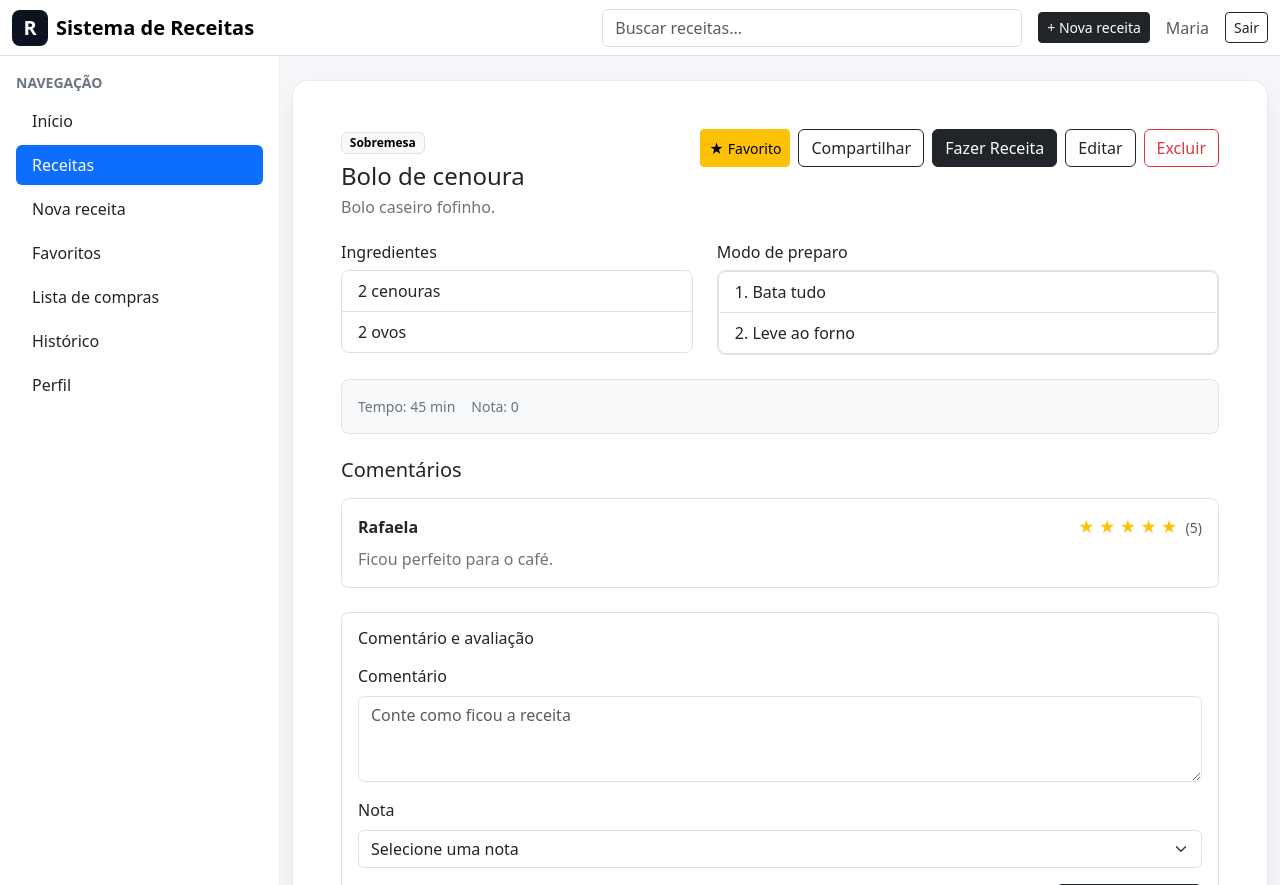
Test: recipe details › adds missing ingredients to the shopping list
Expected: the heading "Bolo de cenoura" is shown, [341, 162, 525, 191]
Click the button "Fazer Receita".
click(995, 148)  # box [932, 129, 1057, 167]
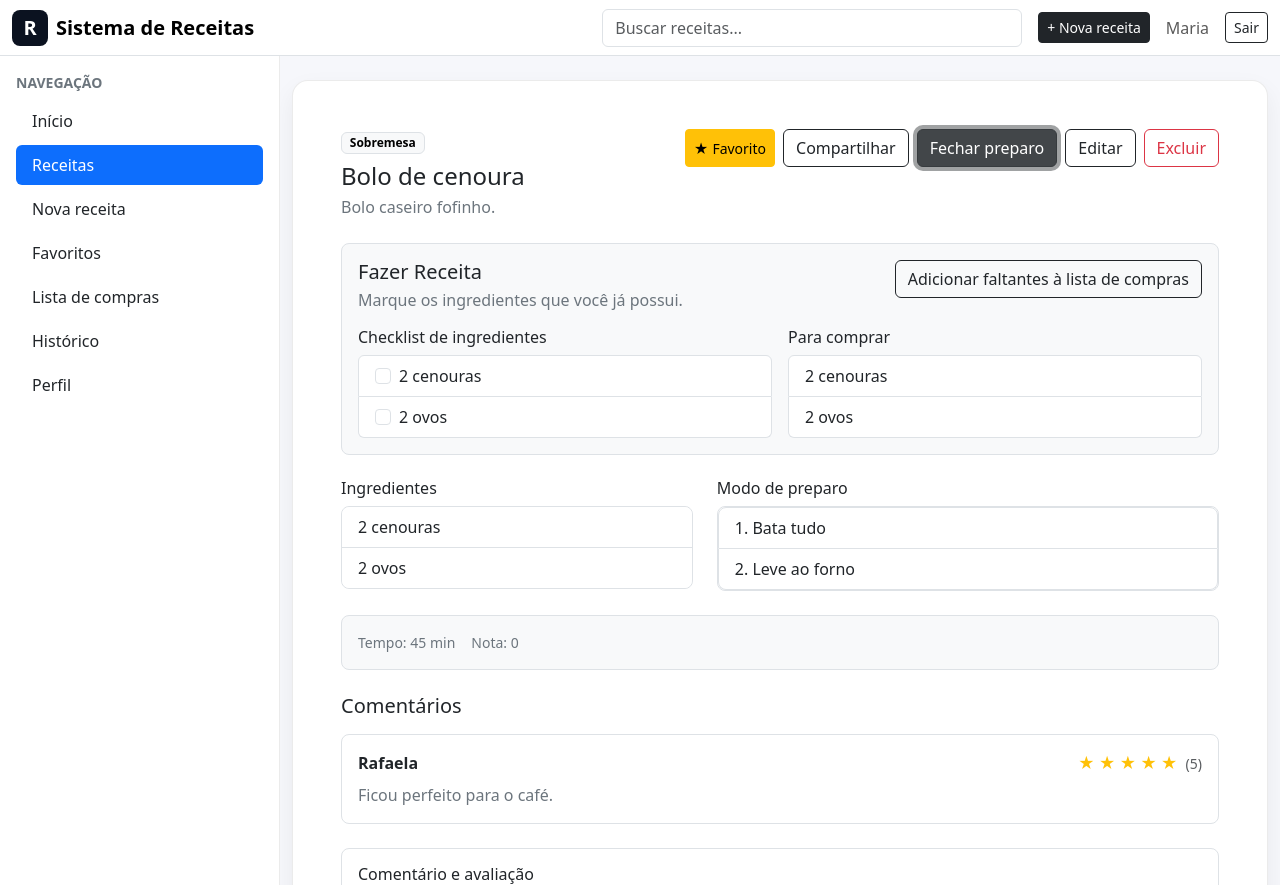
Click the checkbox labelled "2 cenouras".
click(383, 376)  # box [375, 368, 391, 384]
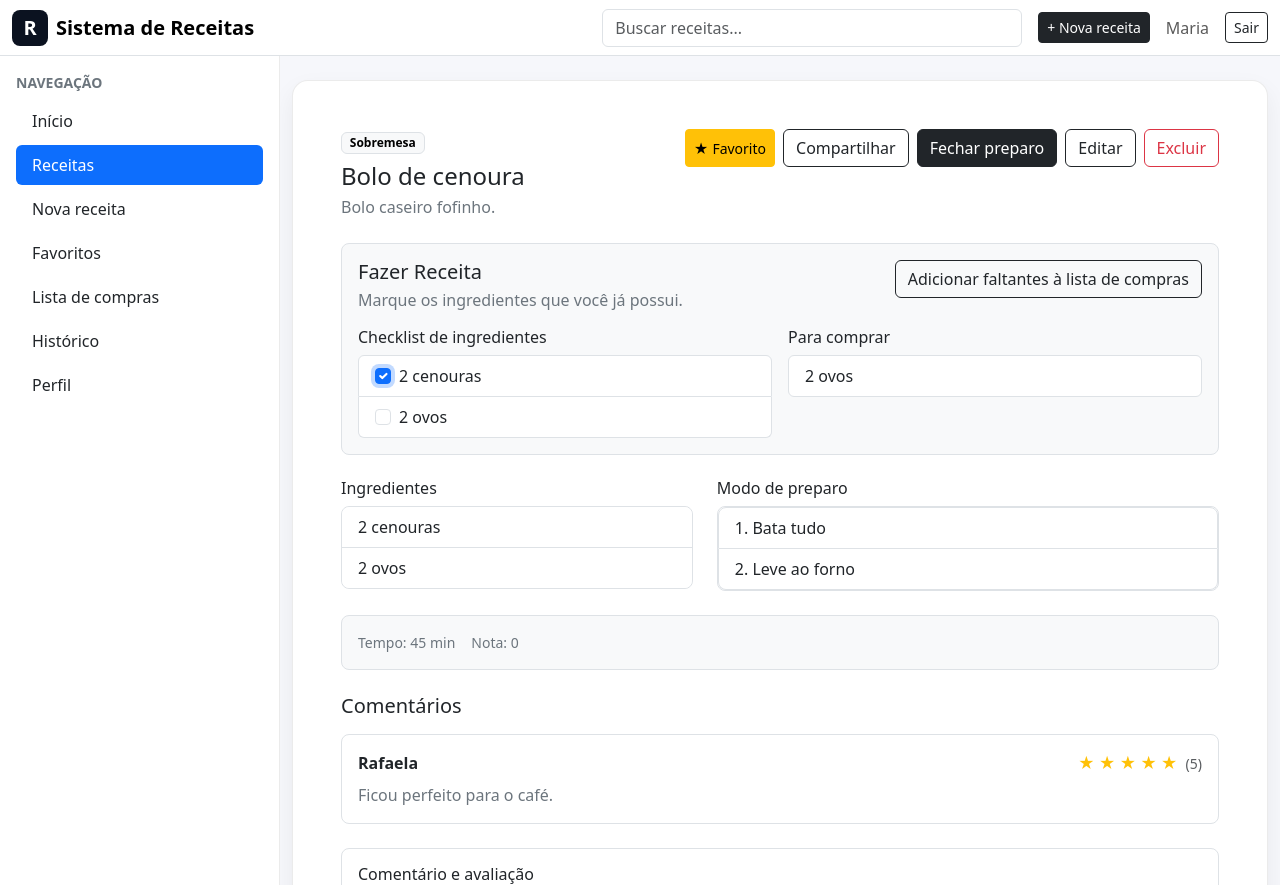
Click the button "Adicionar faltantes à lista de compras".
click(1048, 279)  # box [895, 260, 1202, 298]
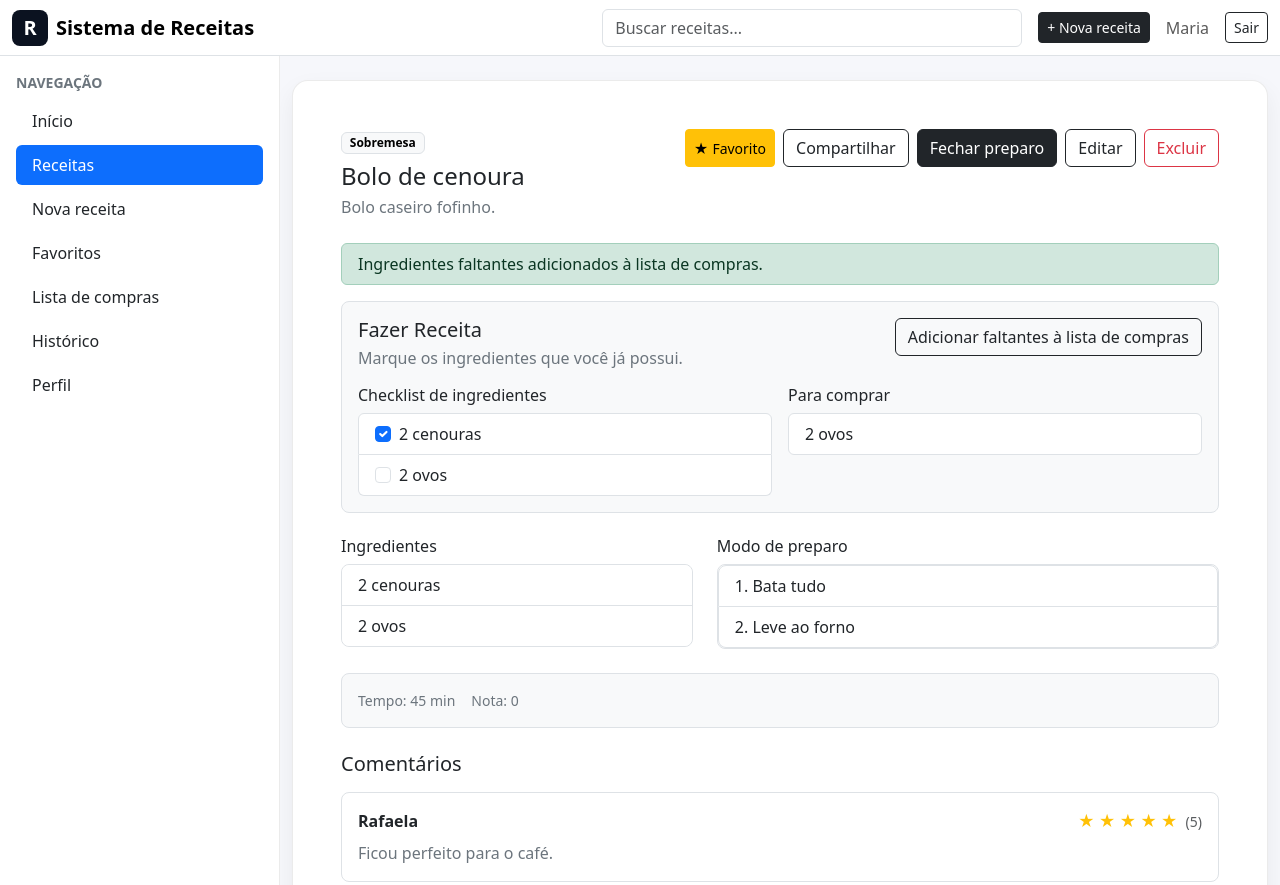
Expected: the message shows "Ingredientes faltantes adicionados", [358, 253, 763, 275]
